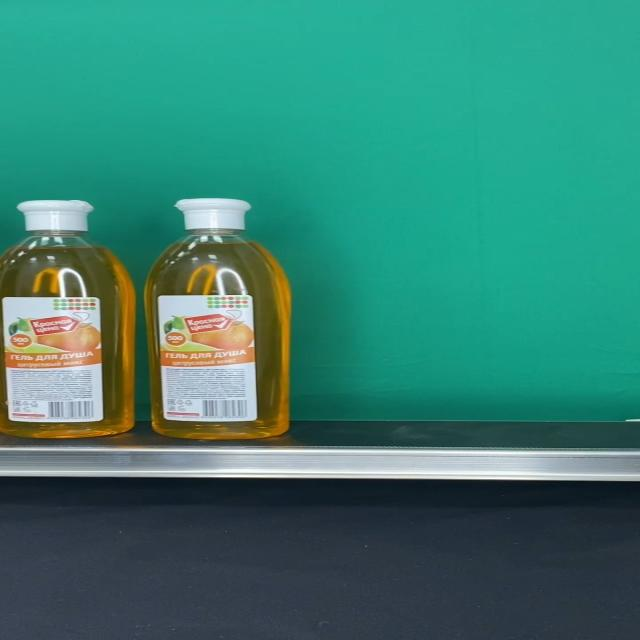Bottle: (145, 198, 292, 439), (0, 200, 136, 438)
Cap: (174, 198, 252, 230), (15, 200, 93, 232)
